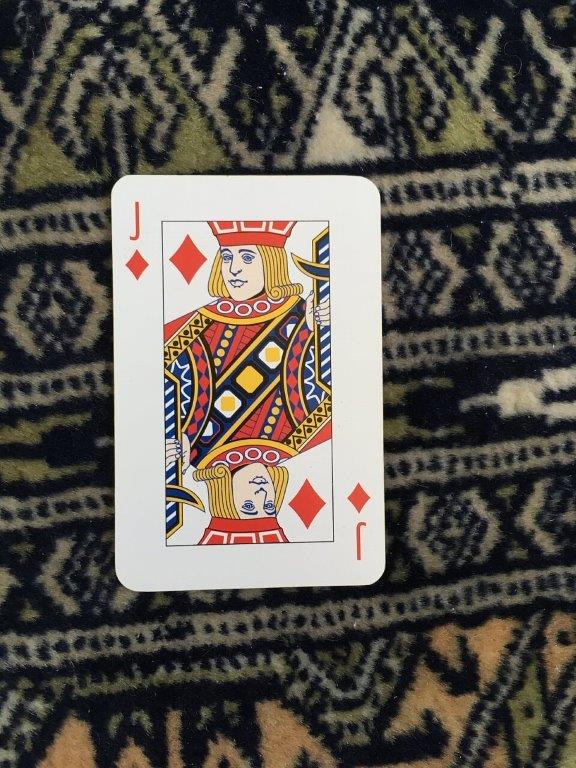JD: (105, 170, 389, 594)
